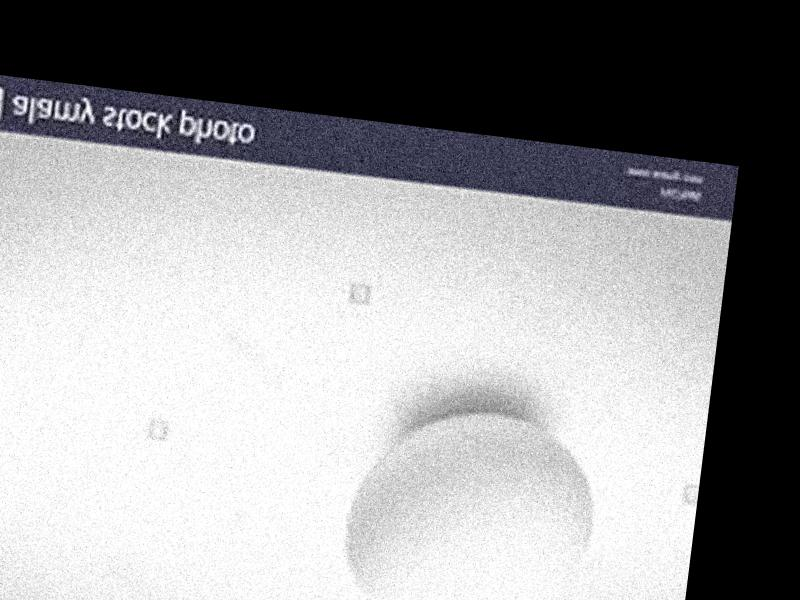Eggs: (338, 397, 607, 600)
